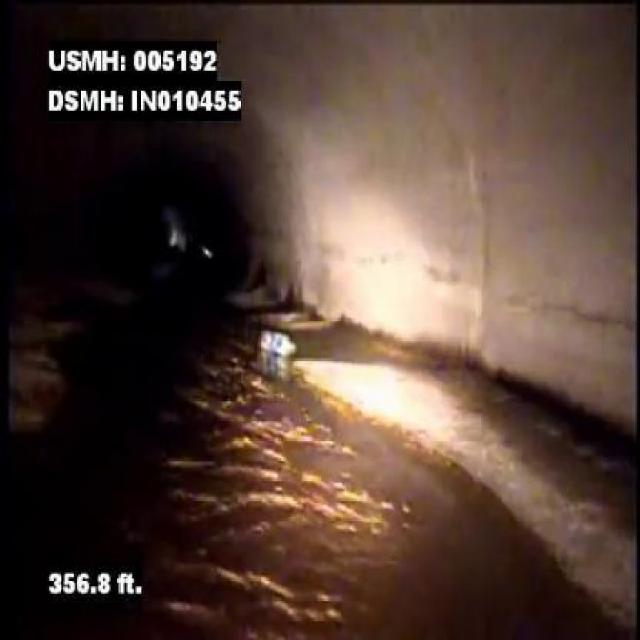Crack: (514, 294, 631, 334), (360, 252, 466, 286)
